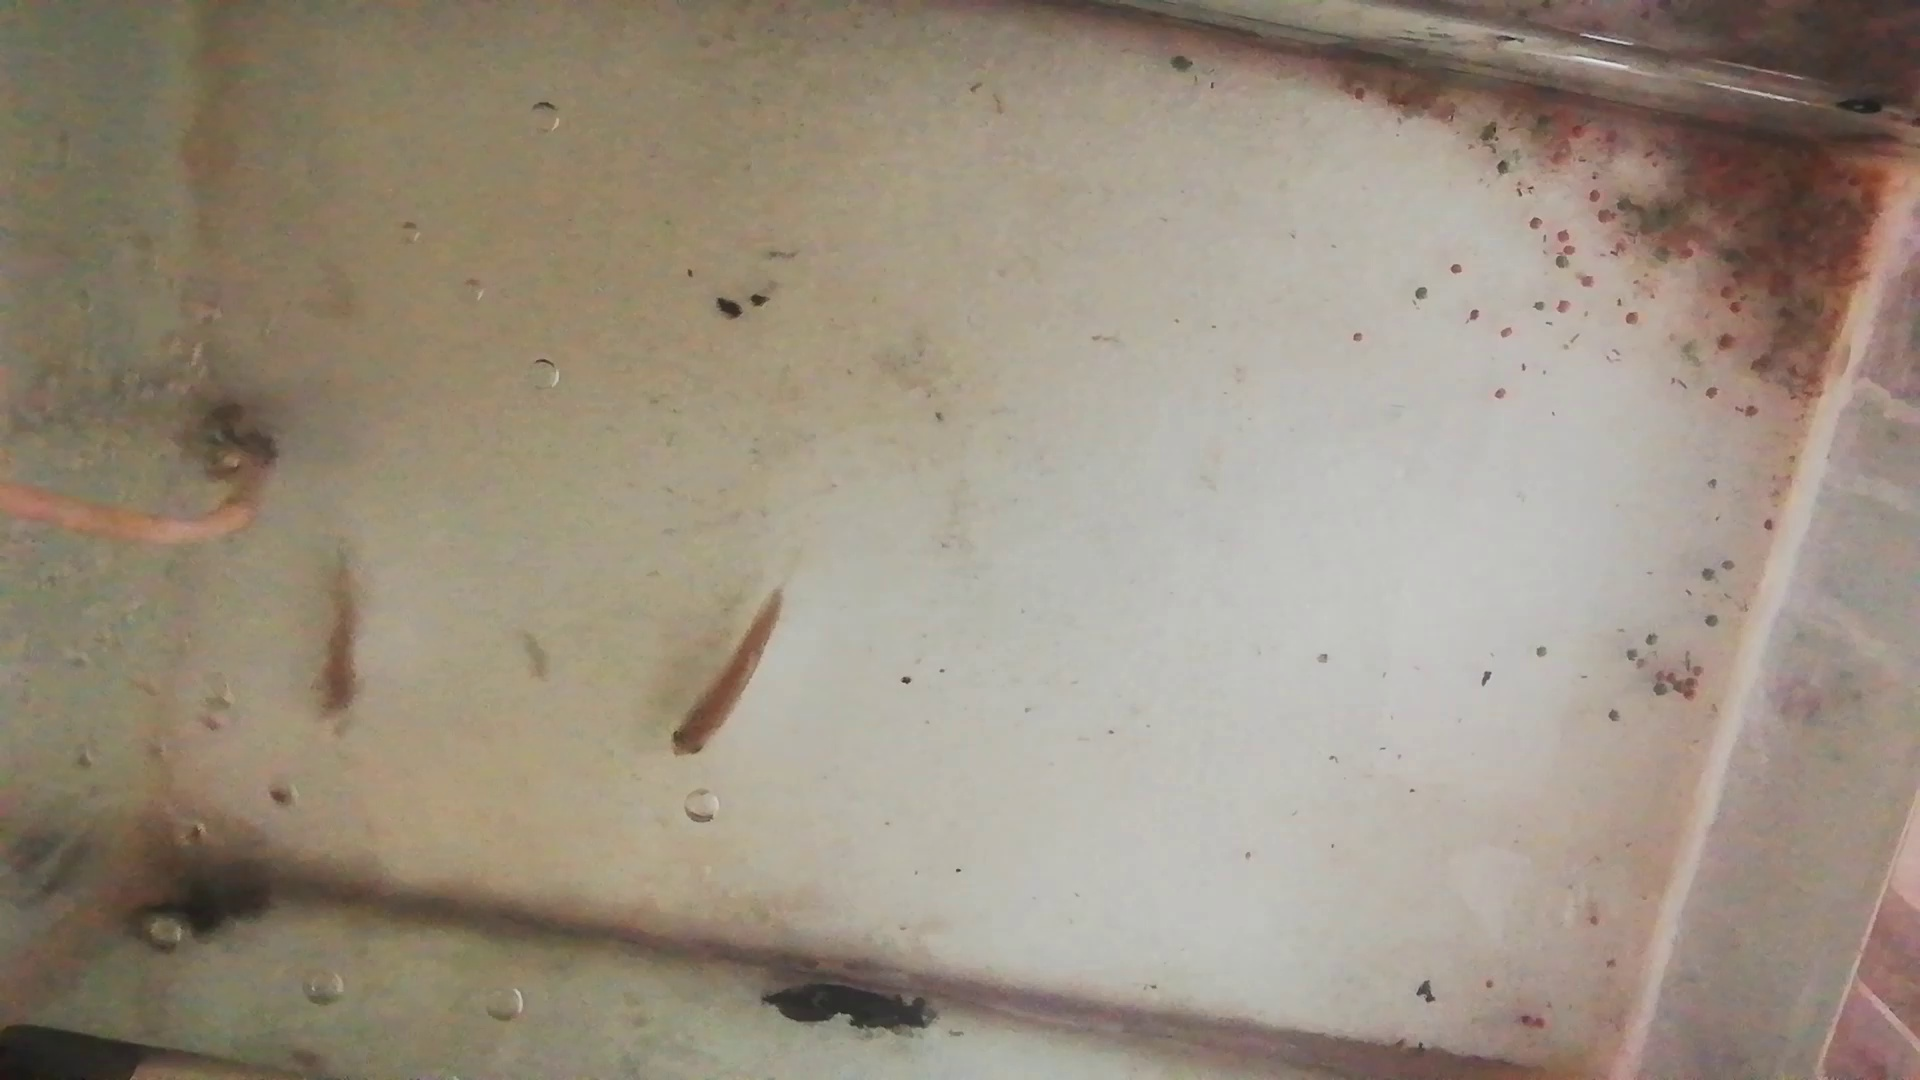fish: (667, 593, 789, 760), (315, 541, 367, 728)
